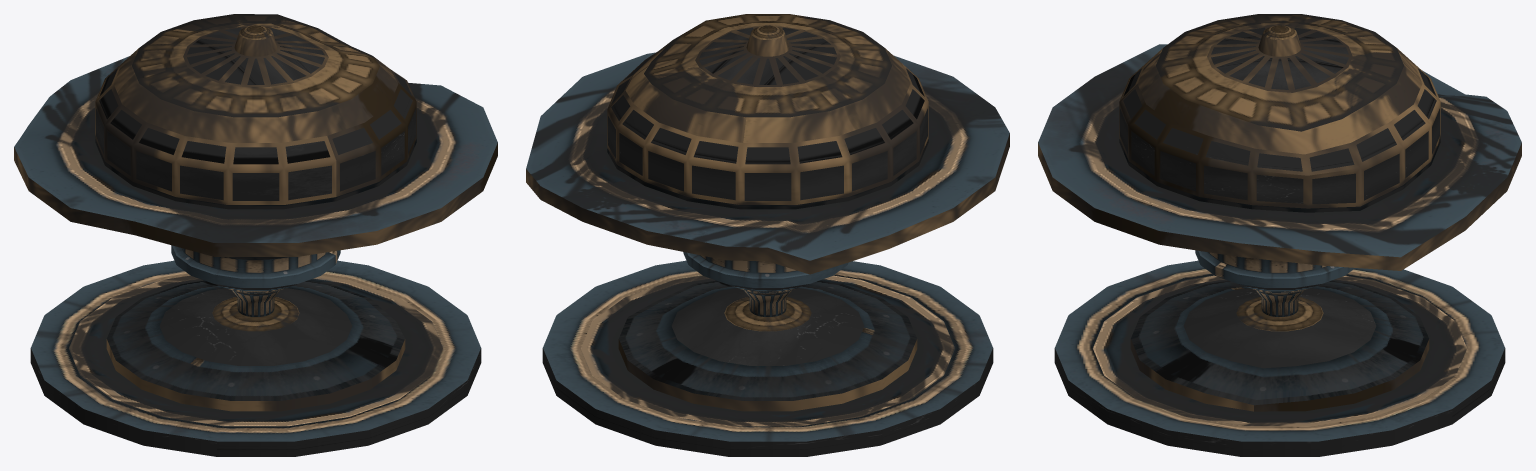
File: Desk Lamp 1 Broken.fbx
The picture shows the model from 3 angles, left to right: view 1: azimuth 30°, elevation 25°; view 2: azimuth 150°, elevation 25°; view 3: azimuth 270°, elevation 25°; orthographic projection.
Visible parts, largest first — view 1: Cylinder; view 2: Cylinder; view 3: Cylinder.
Part boxes in pixels (x1,y1,x2,y2): Cylinder: (14,14,497,456); Cylinder: (526,14,1009,456); Cylinder: (1038,14,1521,456).
Bounding box in the file's own units: 80.59 × 62.29 × 81.84.
